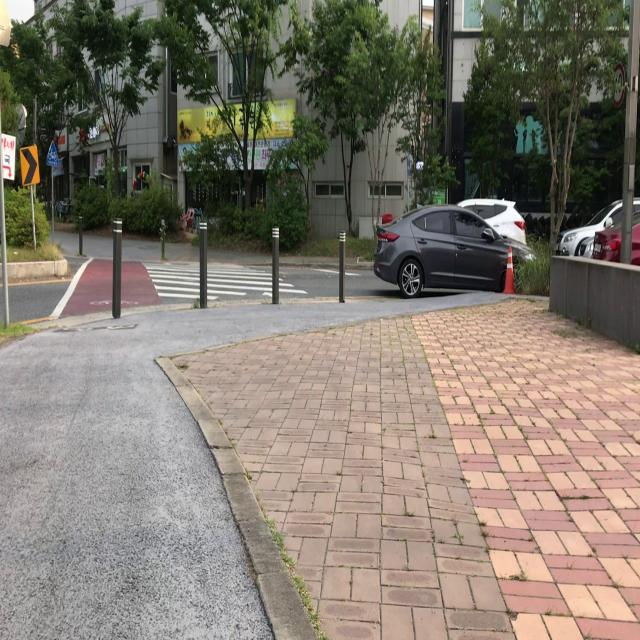횡단보도: (141, 262, 308, 302)
